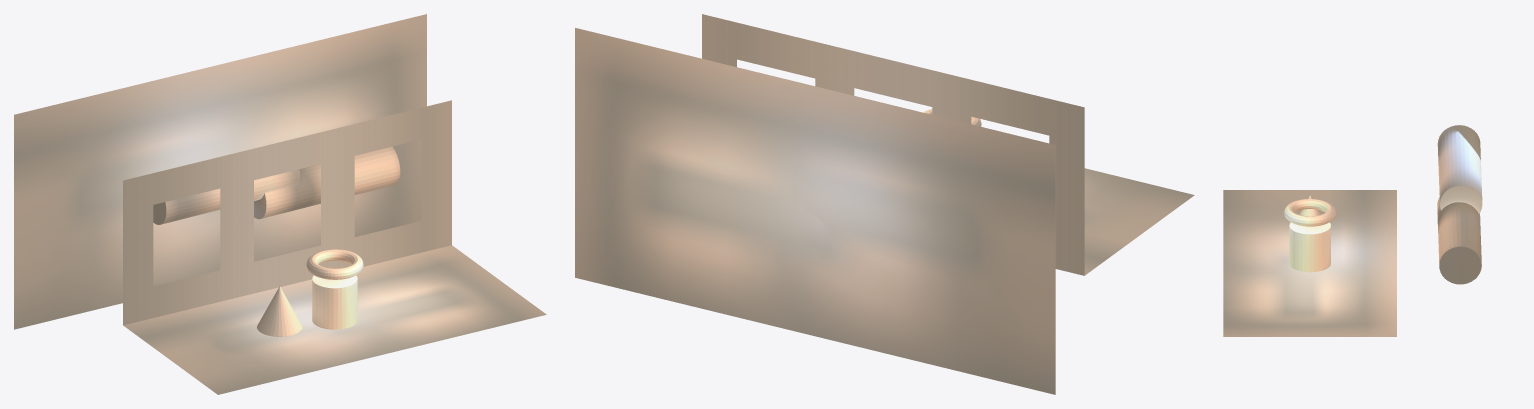
File: hero.glb
3 renders of one model, left to right at view 1: azimuth 30°, elevation 25°; view 2: azimuth 150°, elevation 25°; view 3: azimuth 270°, elevation 25°, orthographic. The views are drawn at different scales.
Parts seen in each view (by area): view 1: Plane, Plane.003, Plane.001, Plane.002, Cone, Torus; view 2: Plane; view 3: Plane, Plane.002, Plane.003, Plane.001, Torus.
Boxes of the visible parts, left/top/right/bottom form: Plane: left=14, top=14, right=546, bottom=394; Plane.003: left=254, top=146, right=400, bottom=219; Plane.001: left=312, top=275, right=357, bottom=329; Plane.002: left=153, top=169, right=300, bottom=224; Cone: left=257, top=286, right=302, bottom=336; Torus: left=306, top=249, right=363, bottom=279; Plane: left=575, top=14, right=1194, bottom=394; Plane: left=1223, top=190, right=1396, bottom=336; Plane.002: left=1437, top=125, right=1482, bottom=213; Plane.003: left=1437, top=197, right=1481, bottom=284; Plane.001: left=1289, top=222, right=1330, bottom=272; Torus: left=1284, top=198, right=1336, bottom=226.
Size of the model in its own units: 20.89 by 10.39 by 14.19.
Materials: 6 (6 with a texture image).
